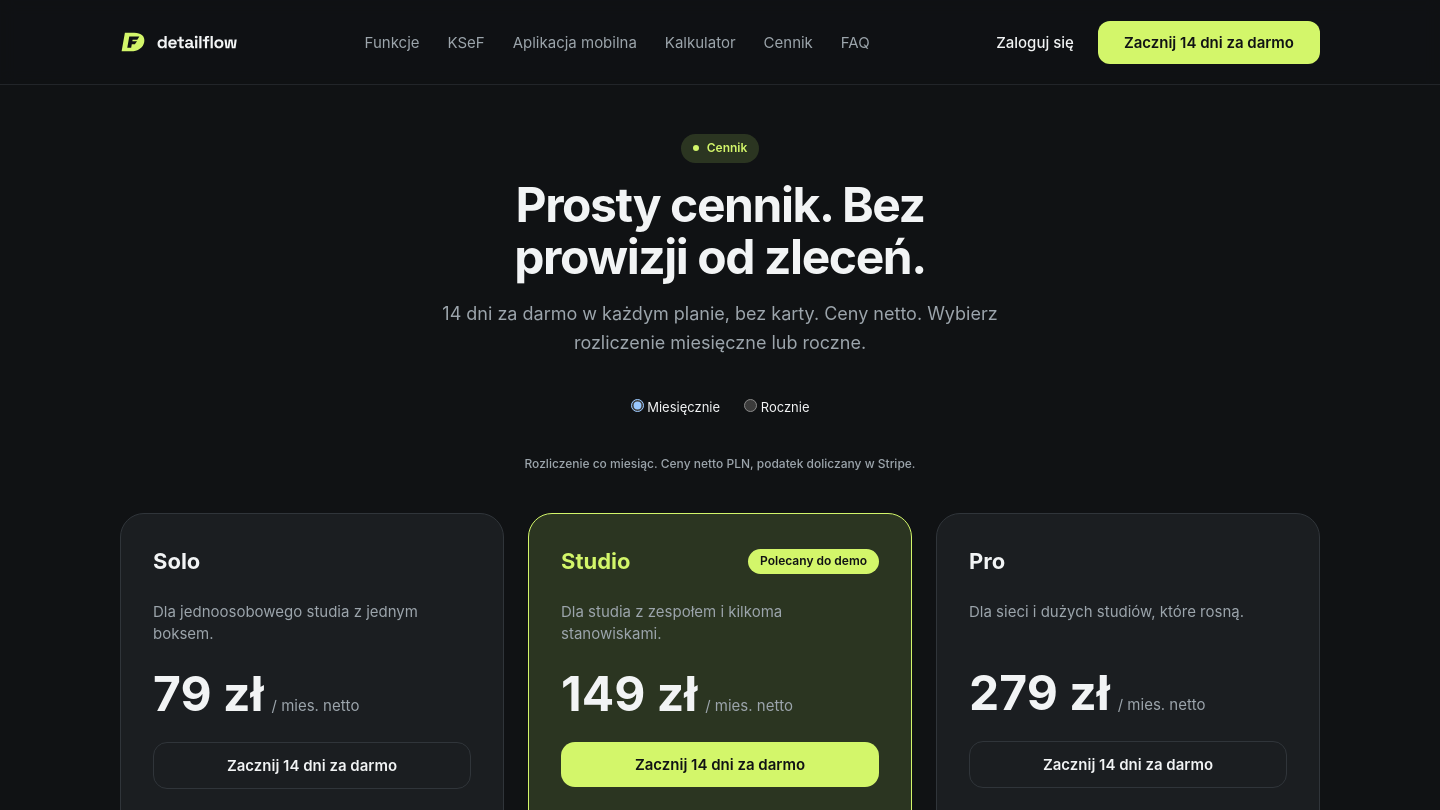
Test case: shows monthly prices by default and full annual prices after switching
(page scrolled)
Check: the text "79 zł" is shown, box [153,670,264,718]
Check: the text "149 zł" is shown, box [561,670,697,718]
Click the radio button labelled "Rocznie" at (750, 405), box [744,399,757,412]
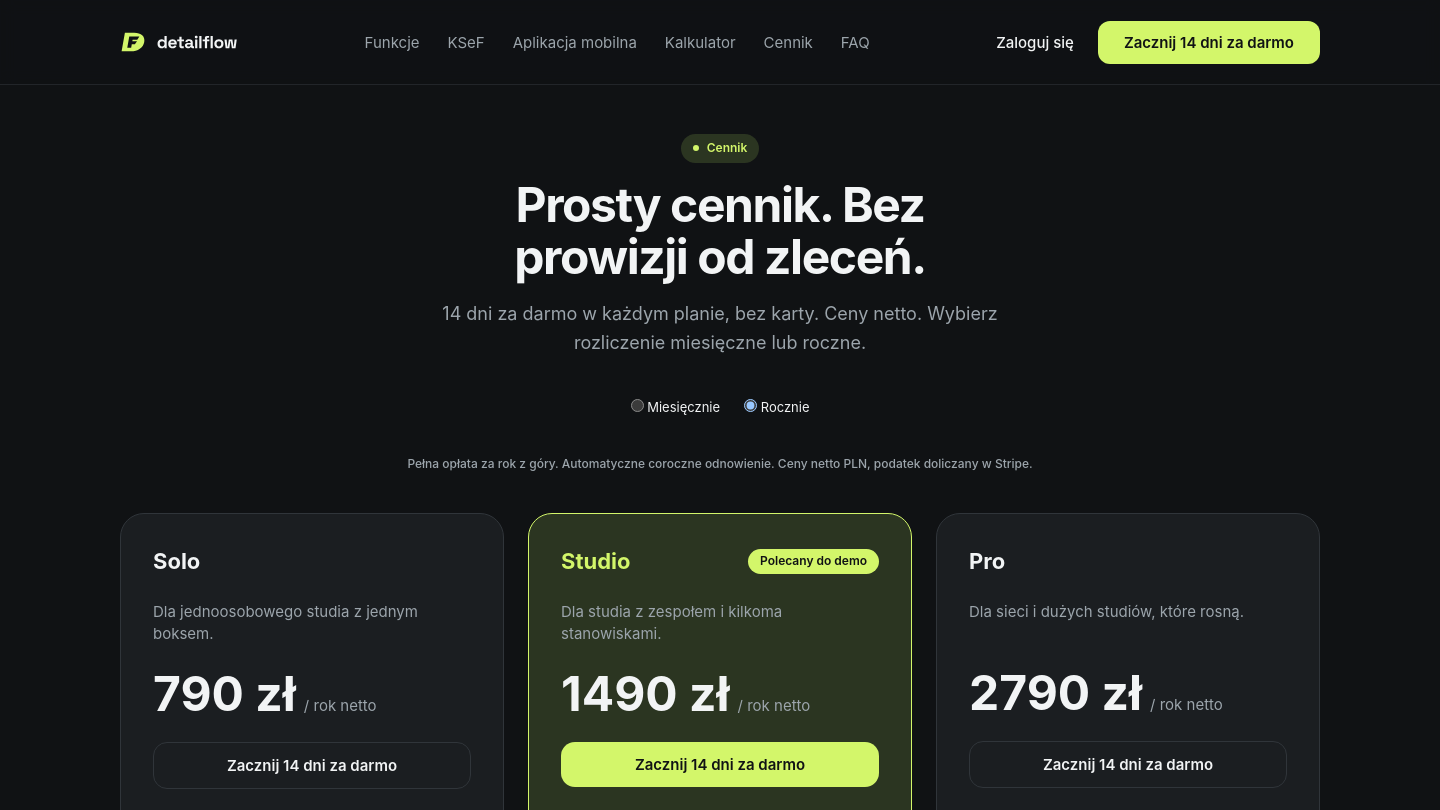
Check: the text "790 zł" is shown, box [153,670,296,718]
Check: the text "1490 zł" is shown, box [561,670,730,718]
Check: the text "2790 zł" is shown, box [969,669,1142,717]
Click the radio button labelled "Miesięcznie" at (637, 405), box [630,399,644,412]
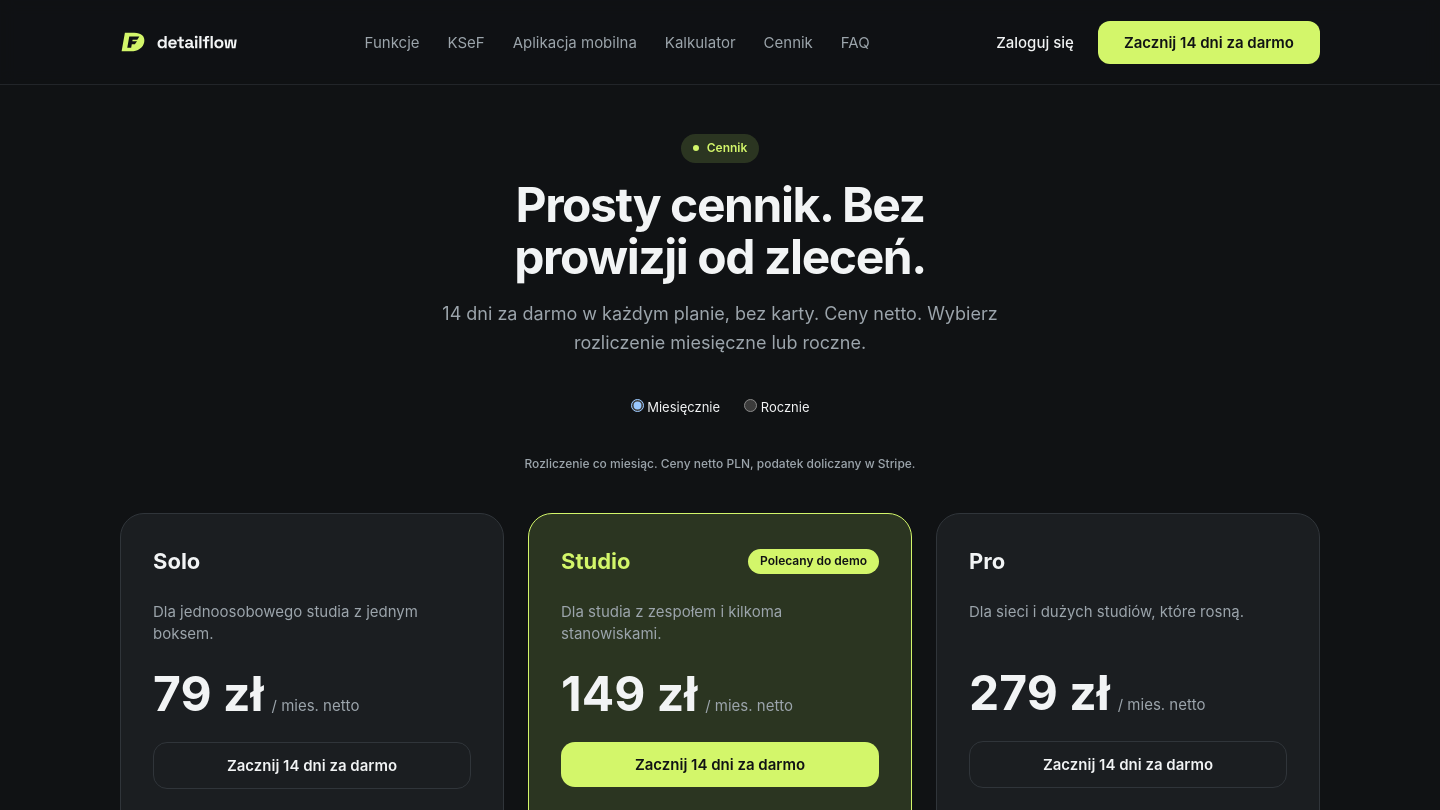
Check: the text "149 zł" is shown, box [561,670,697,718]
